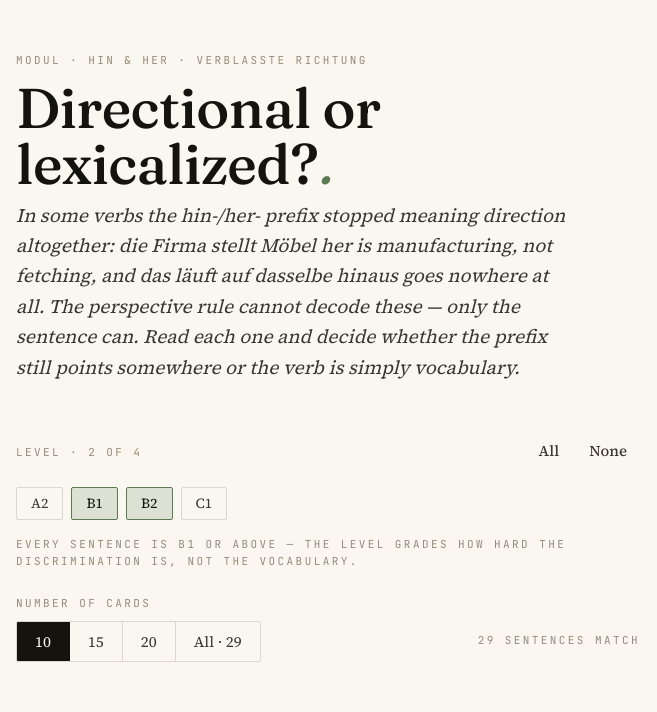
LexicalSetup › warns and disables Start when only A2 is selected (the bank has no A2 items)
The image size is (657, 712).
Step 1. Click the button "None" → (608, 451), box [576, 433, 640, 469]
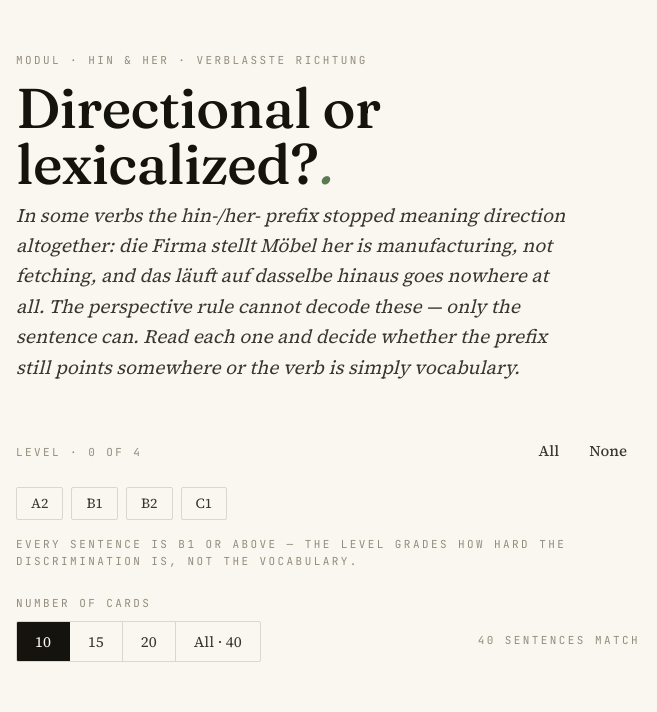
Step 2. Click the button with class "chip" showing "A2" → (40, 503), box [16, 487, 63, 520]
(page scrolled)
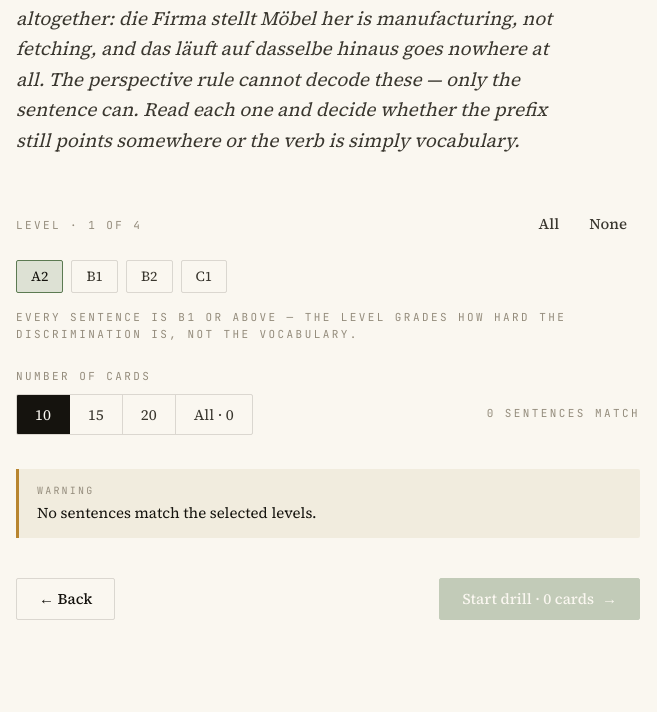
Now the text with class "count-avail" shows "0", box [487, 406, 640, 420]
Now the element with class "alert-warning" is shown, box [16, 468, 640, 538]
Now the button with class "btn-accent" is disabled, box [439, 578, 640, 620]
